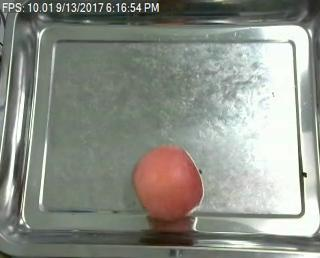apple: (131, 144, 204, 224)
